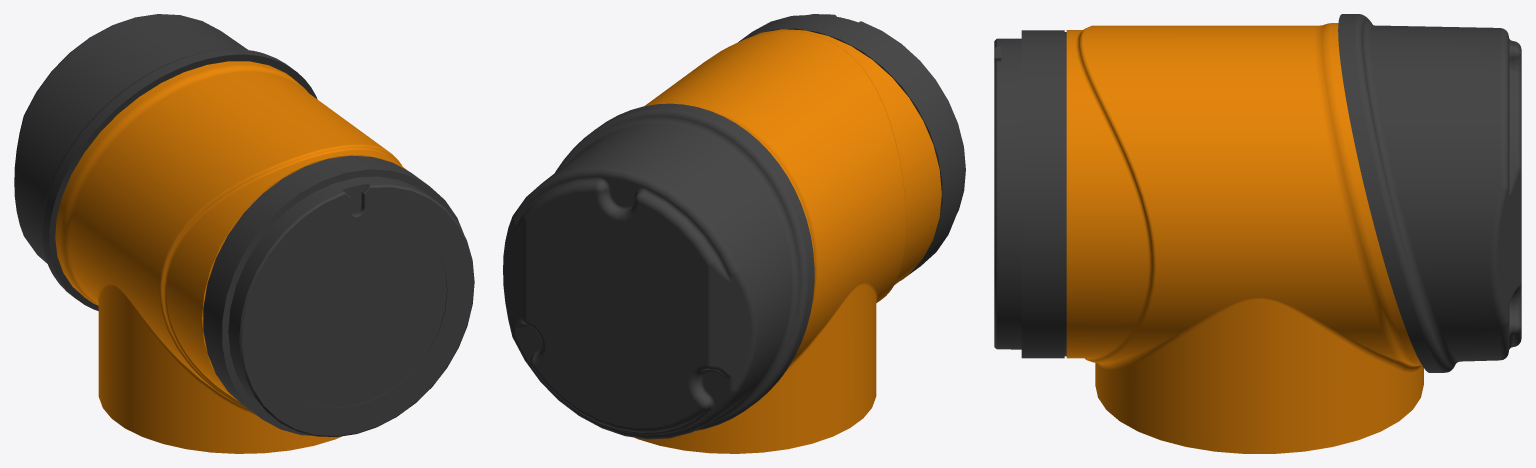
3 views of the same model, side by side, from view 1: azimuth 30°, elevation 25°; view 2: azimuth 150°, elevation 25°; view 3: azimuth 270°, elevation 25° (orthographic). The views are drawn at different scales.
Visible parts, largest first — view 1: NONE; view 2: NONE; view 3: NONE.
Part boxes in pixels (left/top/right/bottom): NONE: left=14, top=14, right=474, bottom=453; NONE: left=503, top=14, right=965, bottom=453; NONE: left=994, top=14, right=1521, bottom=453.
Bounding box in the file's own units: 0.082 × 0.1203 × 0.0892.
